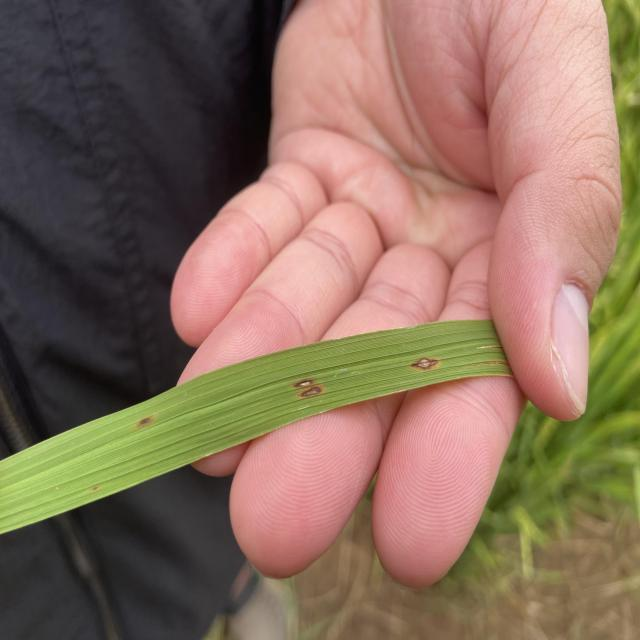Dao on: (297, 384, 325, 398), (410, 358, 439, 370), (136, 416, 155, 426), (292, 379, 313, 388)
